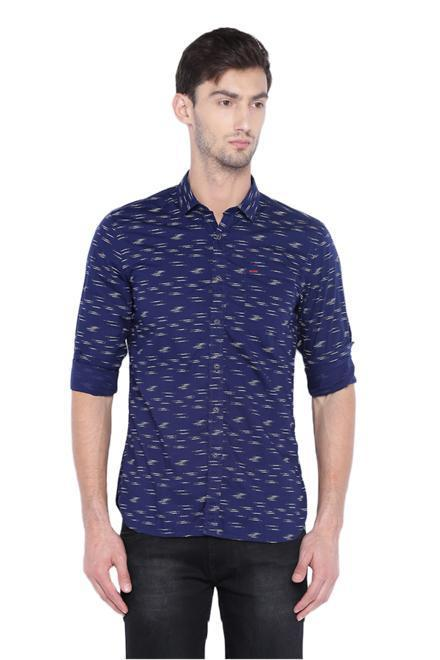Shirt: (67, 163, 399, 550)
